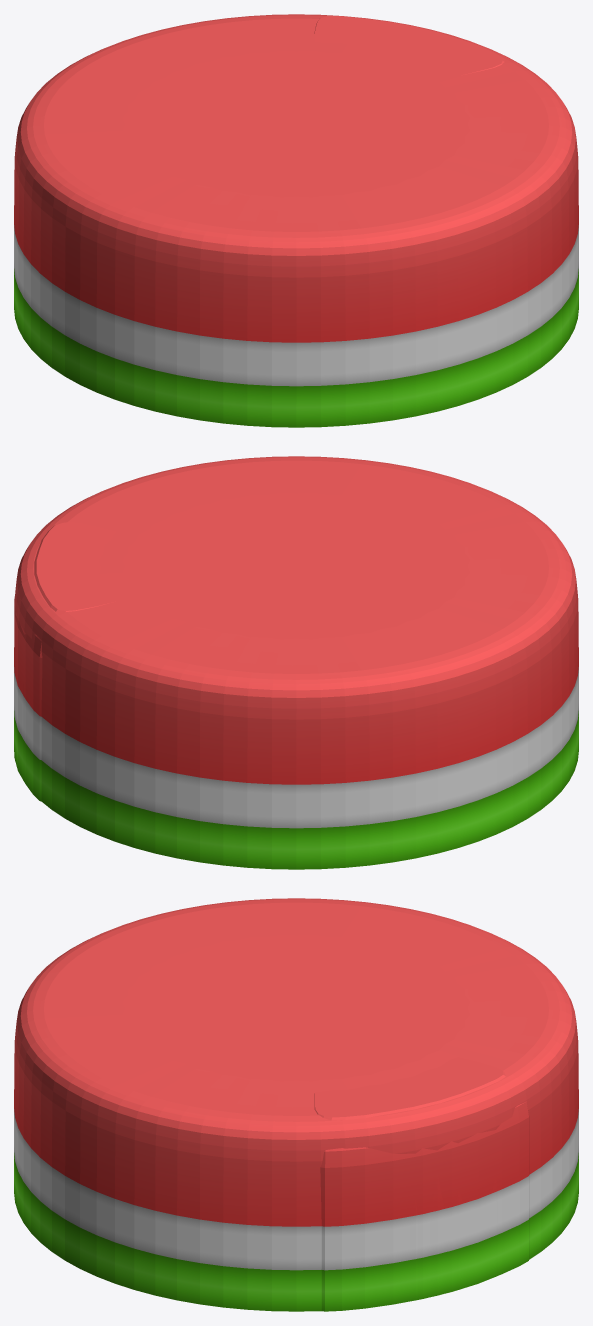
Rendered from cake1.FBX.
3 renders of one model, top to bottom at view 1: azimuth 30°, elevation 25°; view 2: azimuth 150°, elevation 25°; view 3: azimuth 270°, elevation 25°, orthographic.
Parts seen in each view (by area): view 1: cake01, cake01_slice; view 2: cake01, cake01_slice; view 3: cake01, cake01_slice.
Part boxes in pixels (<box>): cake01: <box>14,14,578,427</box>; cake01_slice: <box>314,16,504,75</box>; cake01: <box>14,456,578,869</box>; cake01_slice: <box>14,522,116,801</box>; cake01: <box>14,898,578,1311</box>; cake01_slice: <box>314,1057,529,1311</box>.
Bounding box in the file's own units: 0.0193 × 0.00693 × 0.0193.
